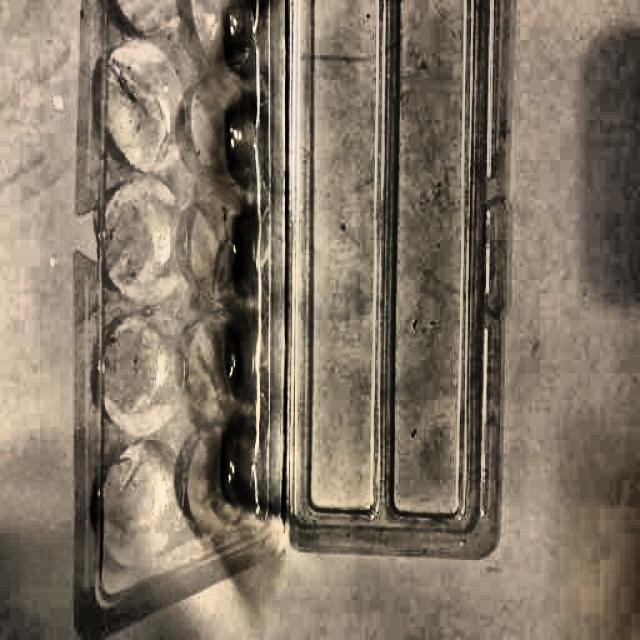plastic: (72, 0, 509, 618)
